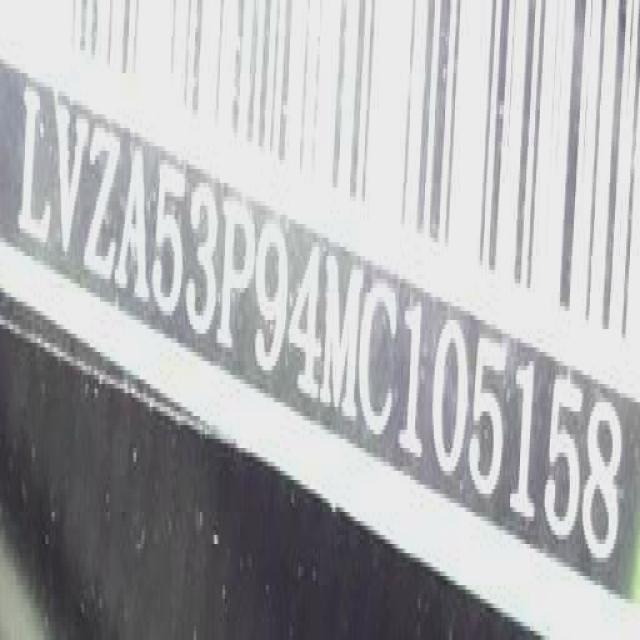0: (432, 306, 472, 492)
1: (512, 344, 544, 534), (400, 293, 432, 472)
3: (186, 176, 224, 351)
4: (293, 232, 330, 414)
5: (546, 362, 588, 553), (469, 321, 509, 513), (152, 156, 186, 332)
8: (584, 388, 629, 572)
9: (256, 215, 294, 387)
A: (118, 134, 155, 314)
C: (362, 269, 404, 449)
L: (18, 78, 54, 257)
M: (319, 251, 364, 434)
P: (219, 202, 255, 357)
V: (55, 95, 87, 272)
Z: (83, 120, 121, 285)
